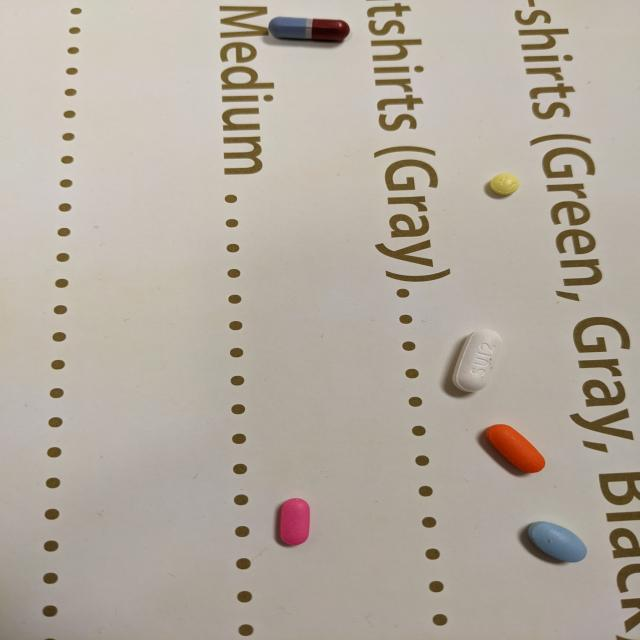non-organic waste: (452, 328, 504, 394), (485, 423, 547, 474), (527, 520, 588, 564), (266, 15, 352, 42), (277, 497, 312, 546), (489, 173, 521, 197)
